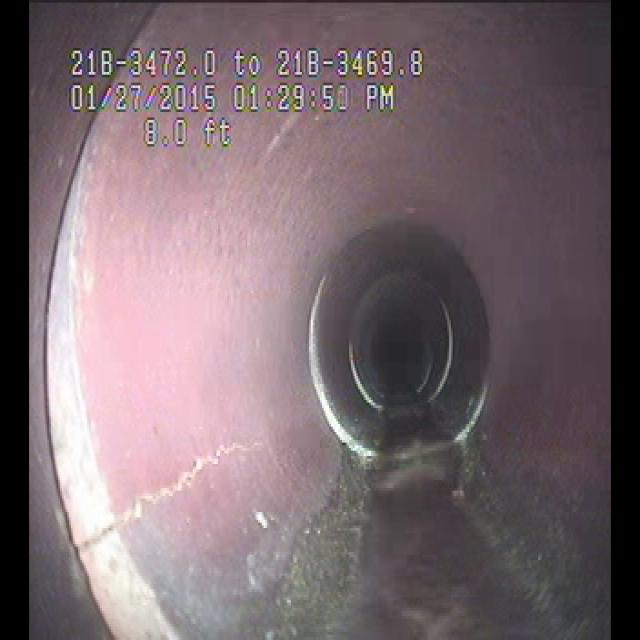Crack: (86, 414, 282, 556)
